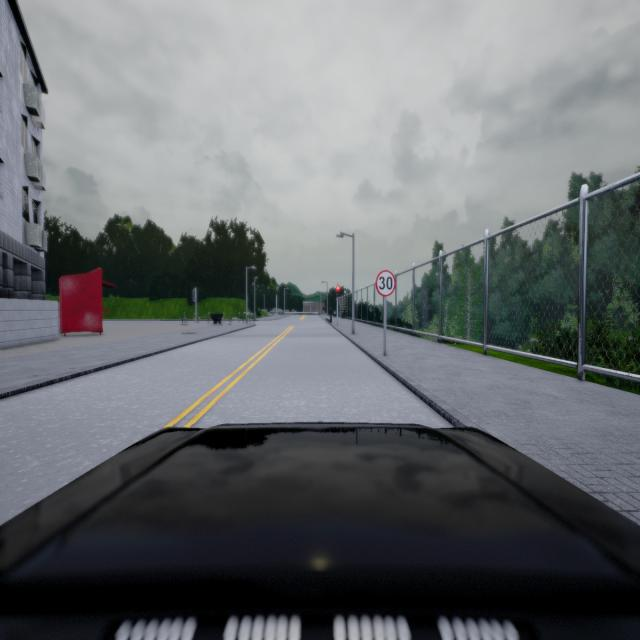Speed Limit -30-: (375, 270, 396, 297)
